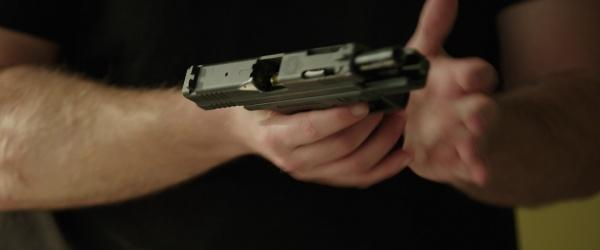Gun: (181, 44, 431, 114)
